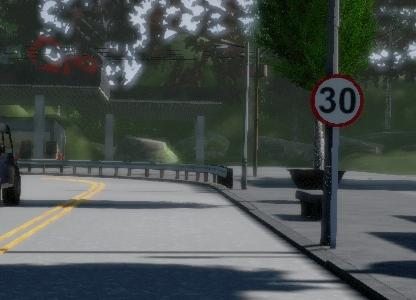Speed_30: (361, 44, 416, 118)
